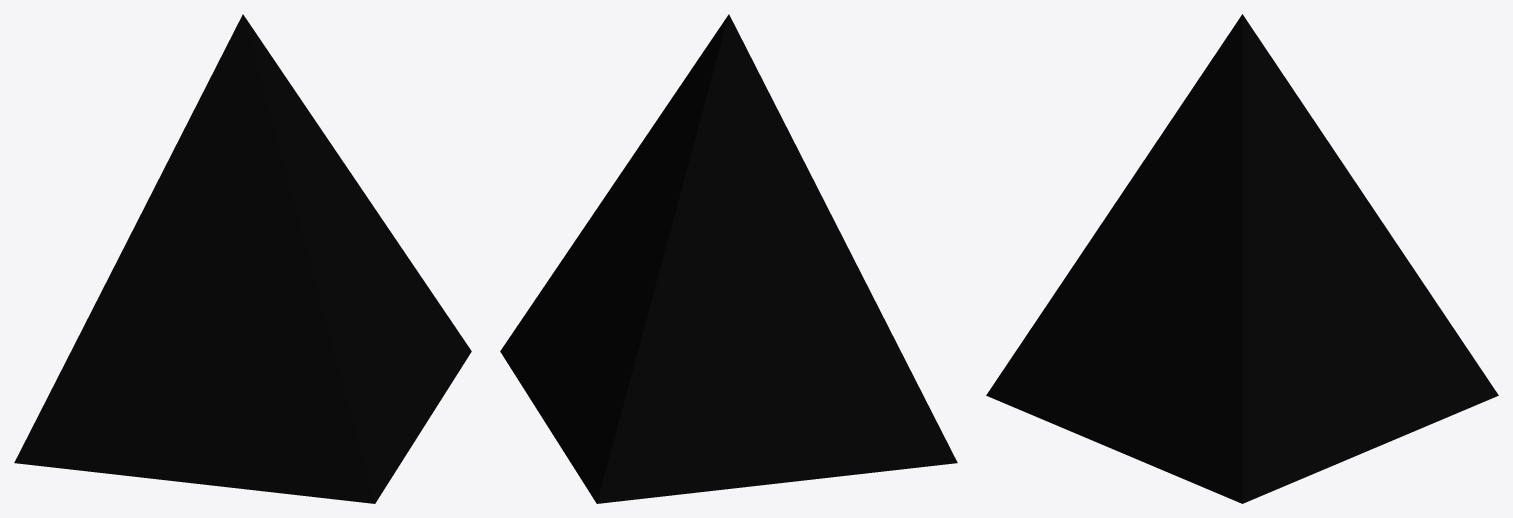
File: BasePyramid.008.glb
3 views of the same model, side by side, from view 1: azimuth 30°, elevation 25°; view 2: azimuth 150°, elevation 25°; view 3: azimuth 270°, elevation 25° (orthographic). The views are drawn at different scales.
Visible parts, largest first — view 1: BasePyramid.008; view 2: BasePyramid.008; view 3: BasePyramid.008.
Boxes of the visible parts, x1=… form: BasePyramid.008: x1=14, y1=14, x2=471, y2=503; BasePyramid.008: x1=500, y1=14, x2=957, y2=503; BasePyramid.008: x1=986, y1=14, x2=1498, y2=503.
Size of what is drawn, in the model's own units: 0.9142 by 0.7506 by 0.9142.
1 material, 1 textured.
